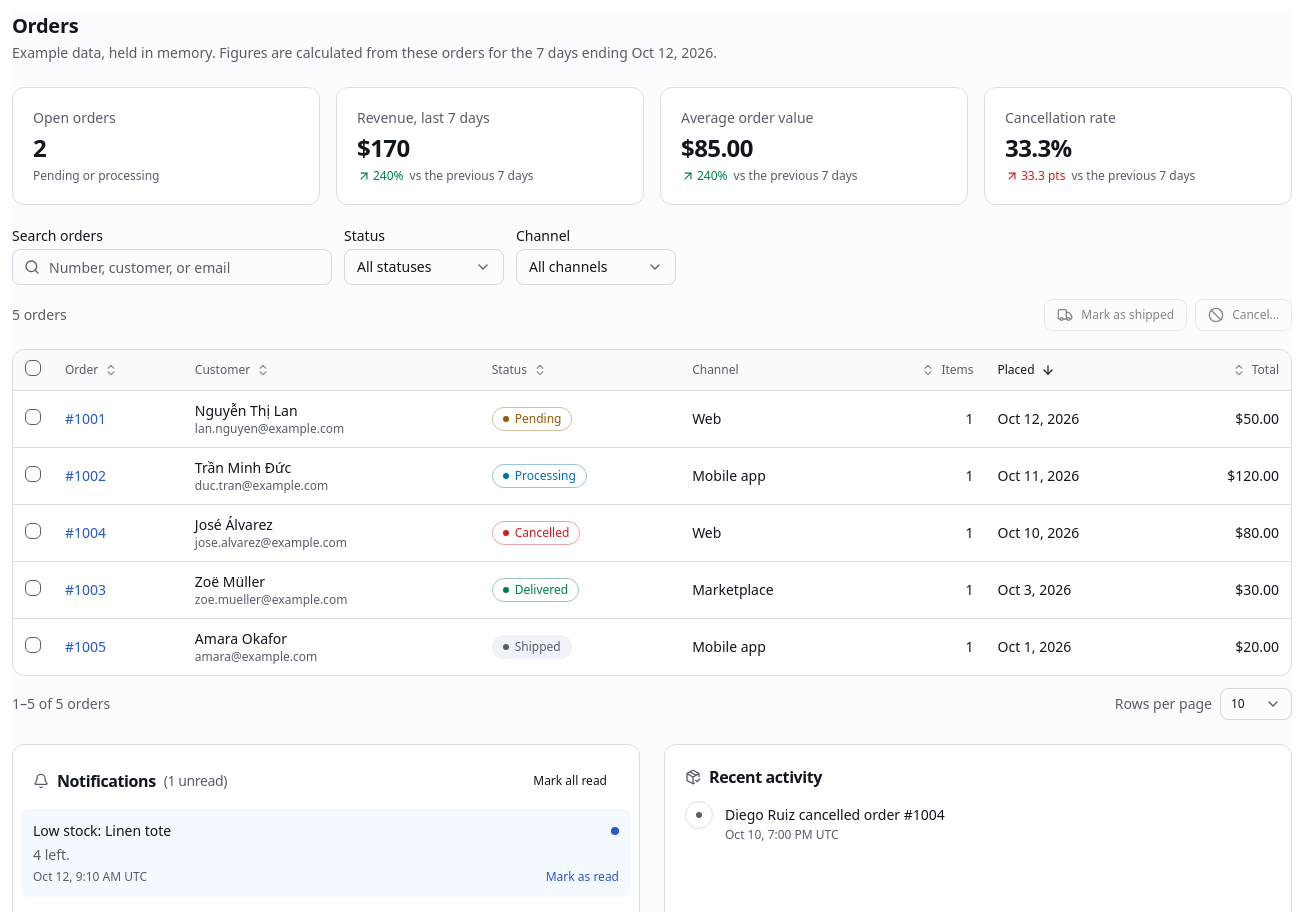
OrdersDashboard › shows a filtered empty state whose action clears the filters
This screenshot has width=1304, height=912.
In the search field labelled "Search orders": (172, 267) [12, 249, 332, 285], type "nobody by this name"
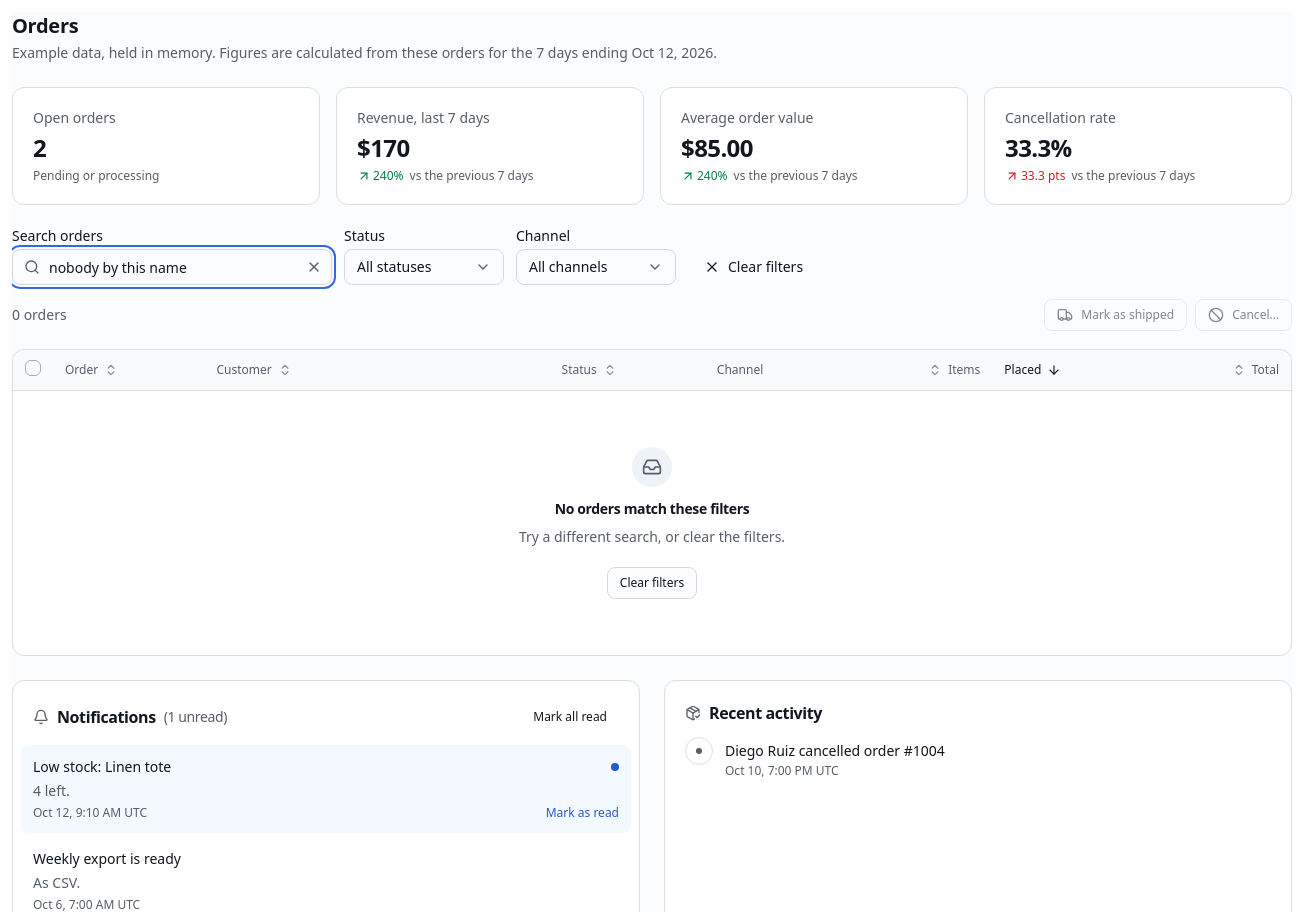
expect the heading "No orders match these filters" is shown: met, box [555, 498, 749, 518]
Click the button "Clear filters" below "No orders match these filters": (652, 582) [607, 566, 697, 598]
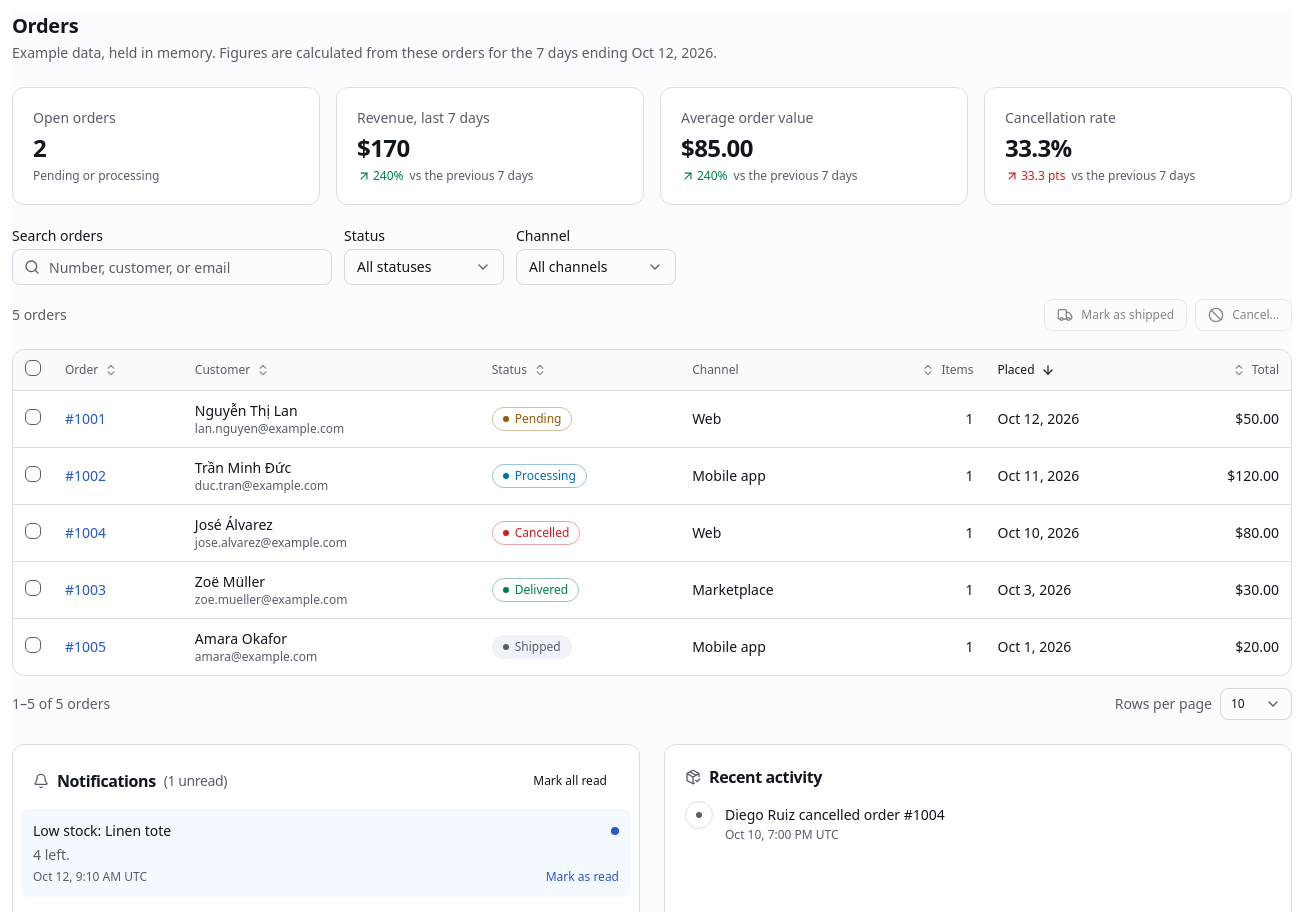
expect the search field labelled "Search orders" is empty: met, box [12, 249, 332, 285]
